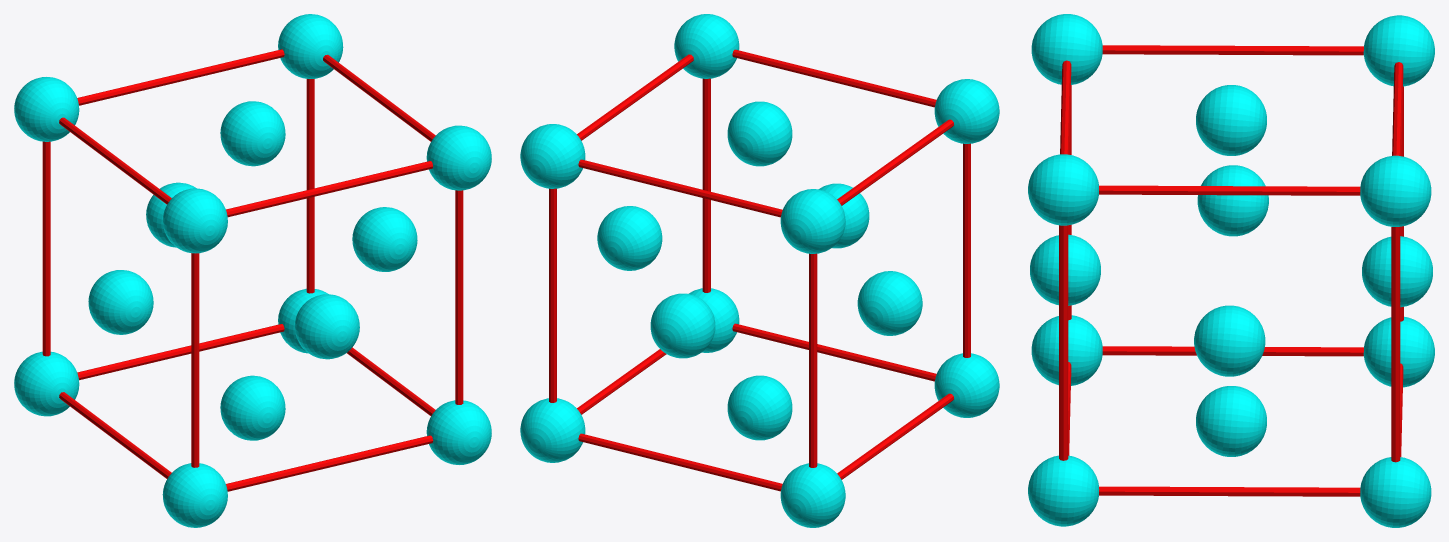
The picture shows the model from 3 angles, left to right: view 1: azimuth 30°, elevation 25°; view 2: azimuth 150°, elevation 25°; view 3: azimuth 270°, elevation 25°; orthographic projection. The views are drawn at different scales.
Bounding box in the file's own units: 0.1127 × 0.1117 × 0.1127.
